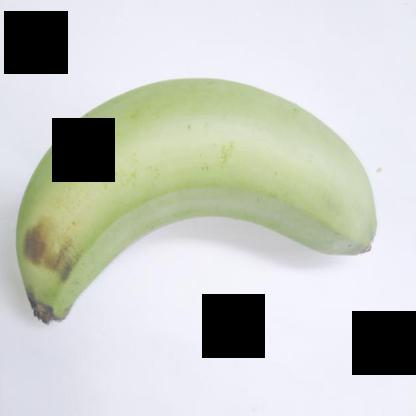freshunripe: (7, 60, 388, 338)
